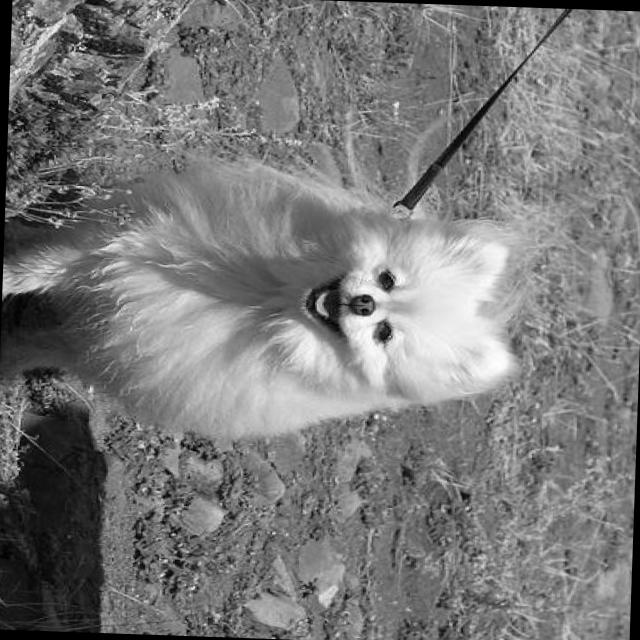sitting: (0, 143, 532, 455)
